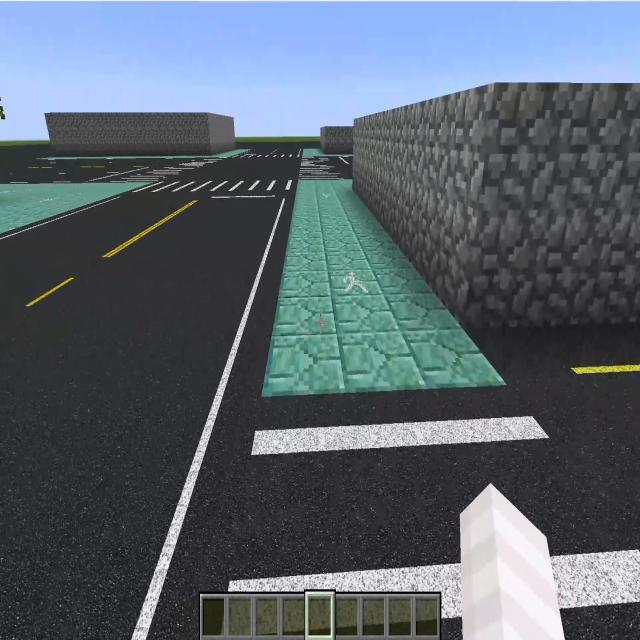crosswalk: (133, 179, 293, 197), (118, 158, 218, 182), (299, 157, 341, 179), (234, 150, 302, 159)
road: (0, 157, 639, 638)
sidewalk: (262, 180, 504, 396), (0, 182, 136, 234), (38, 153, 223, 160), (302, 148, 352, 157), (224, 151, 236, 156), (311, 147, 311, 150)
